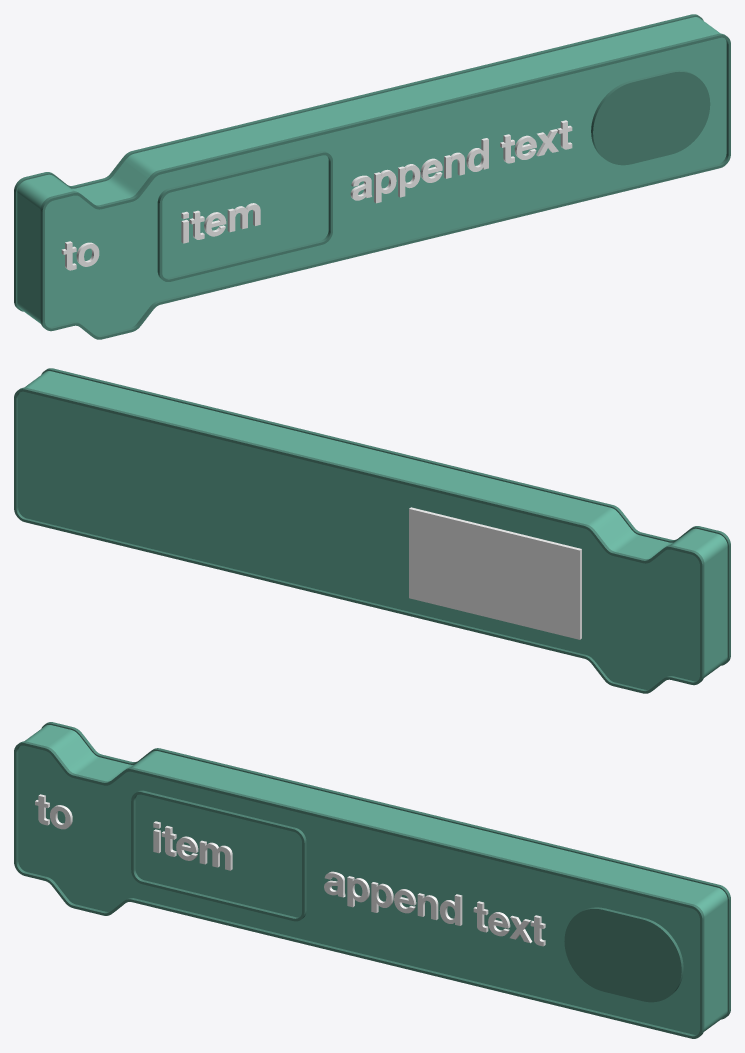
The model's file is text_append.gltf.
3 views of the same model, one above another, from view 1: azimuth 30°, elevation 25°; view 2: azimuth 150°, elevation 25°; view 3: azimuth 330°, elevation 25° (orthographic).
Visible parts, largest first — view 1: Extrude.20, Extrude, Extrude.19, Extrude.21, Extrude.15, Extrude.11; view 2: Extrude.20, Extrude.16, Extrude.21, Extrude.19; view 3: Extrude.20, Extrude, Extrude.19, Extrude.21, Extrude.15, Extrude.11.
Part boxes in pixels (box(x1,y1,x2,y2)): Extrude.20: box(17, 17, 726, 335); Extrude: box(591, 70, 710, 165); Extrude.19: box(40, 33, 730, 339); Extrude.21: box(14, 14, 703, 311); Extrude.15: box(157, 151, 332, 281); Extrude.11: box(227, 203, 260, 232); Extrude.20: box(18, 371, 727, 689); Extrude.16: box(409, 507, 581, 639); Extrude.21: box(14, 387, 704, 693); Extrude.19: box(41, 368, 730, 665); Extrude.20: box(18, 725, 727, 1034); Extrude: box(564, 907, 683, 1002); Extrude.19: box(14, 741, 704, 1038); Extrude.21: box(41, 722, 730, 1019); Extrude.15: box(131, 790, 306, 921); Extrude.11: box(199, 840, 232, 870).
Bounding box in the file's own units: 0.9577 × 0.2038 × 0.0804.
